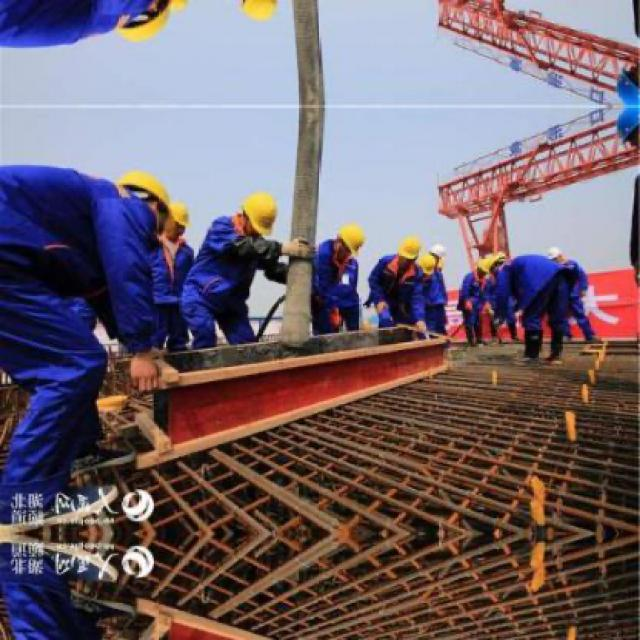helmet: (154, 185, 194, 251), (119, 170, 170, 219), (118, 0, 171, 45), (240, 187, 280, 239), (335, 219, 368, 261), (390, 233, 424, 268), (153, 0, 194, 29), (238, 0, 280, 28), (617, 106, 638, 150), (617, 64, 638, 106), (414, 255, 437, 279), (543, 247, 566, 268), (489, 253, 508, 278), (431, 243, 451, 260), (475, 258, 491, 279)
